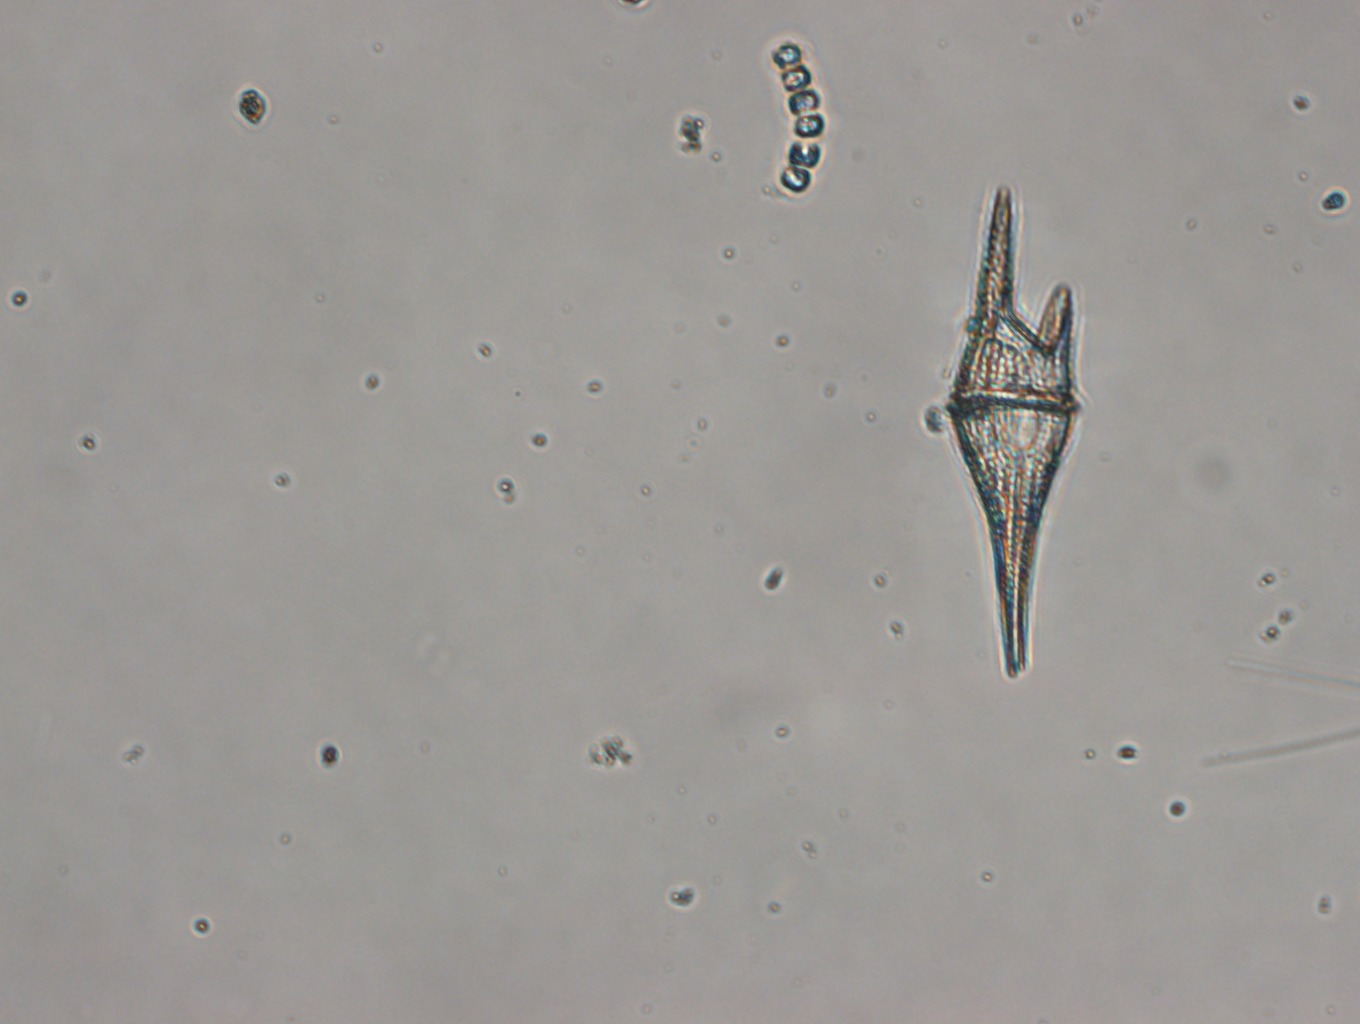ceratium furca: (943, 187, 1080, 675)
skeletonema: (768, 39, 828, 195)
